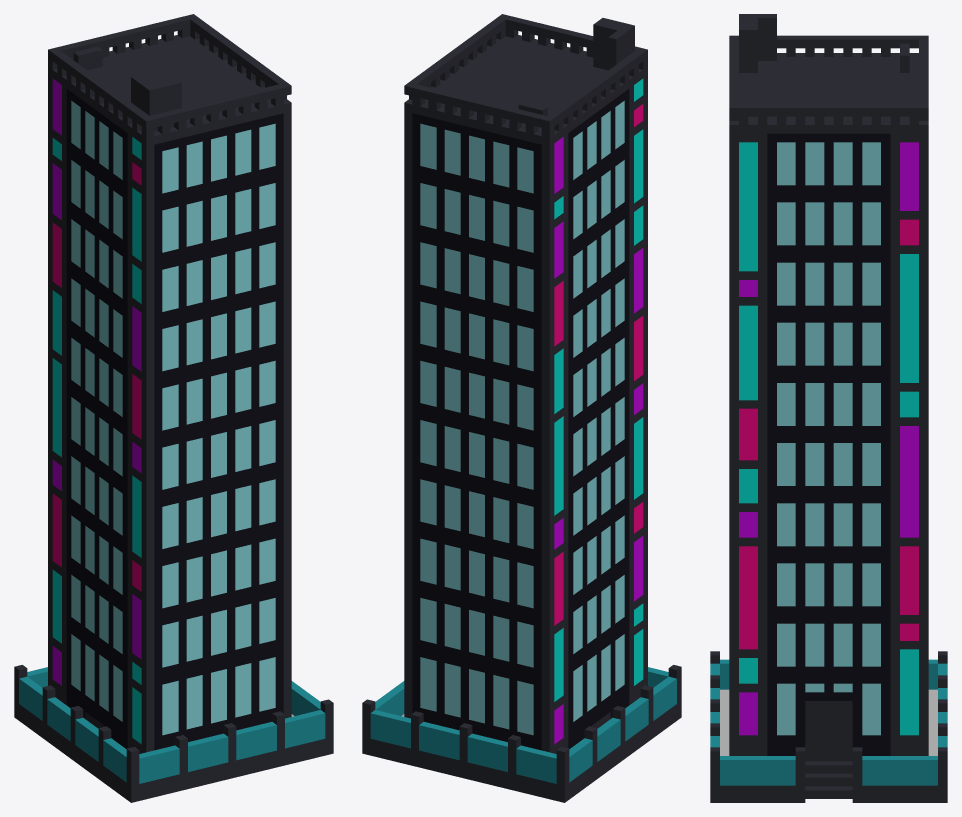
3 views of the same model, side by side, from view 1: azimuth 30°, elevation 25°; view 2: azimuth 150°, elevation 25°; view 3: azimuth 270°, elevation 25° (orthographic).
Visible parts, largest first — view 1: Cube.624; view 2: Cube.624; view 3: Cube.624.
Boxes of the visible parts, x1,y1,x2,y2 form: Cube.624: [14, 14, 333, 802]; Cube.624: [362, 14, 681, 802]; Cube.624: [710, 14, 947, 802].
Bounding box in the file's own units: 2500 × 8200 × 2500.
